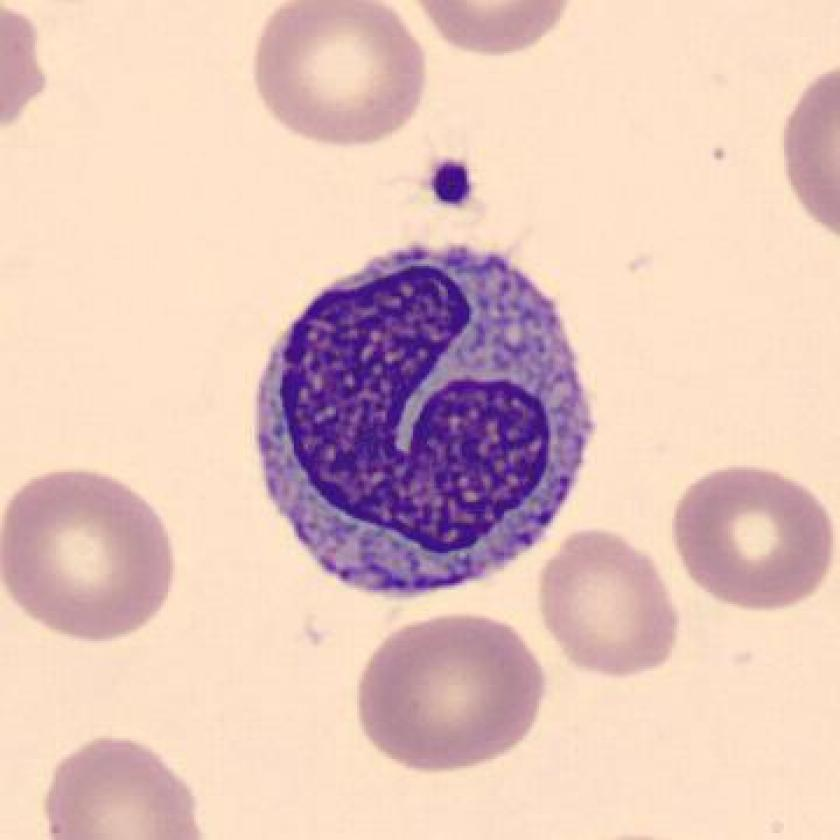monocyte: (244, 230, 605, 617)
